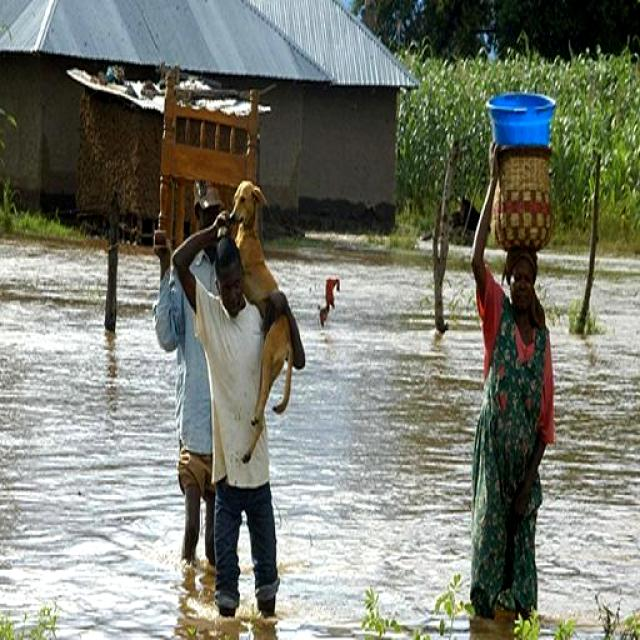civilian: (455, 138, 580, 636), (172, 210, 293, 630), (152, 175, 235, 597)
dog: (223, 166, 300, 470)
